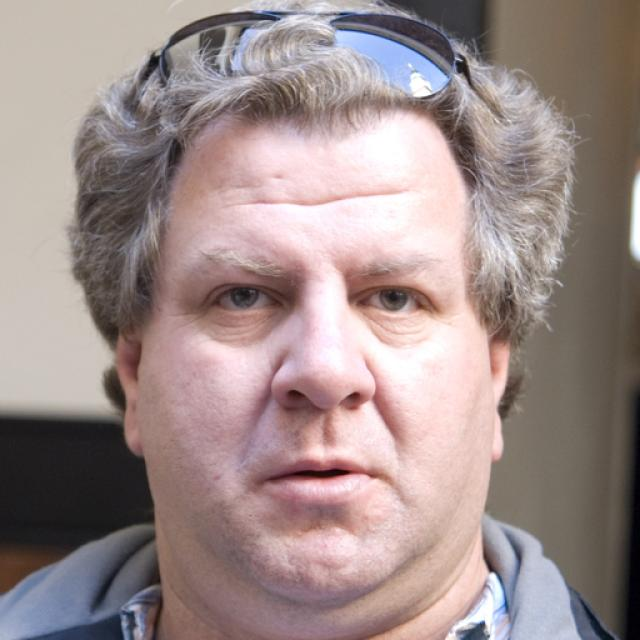Wrinkle: (227, 182, 416, 210), (368, 354, 403, 452), (252, 353, 281, 426)
